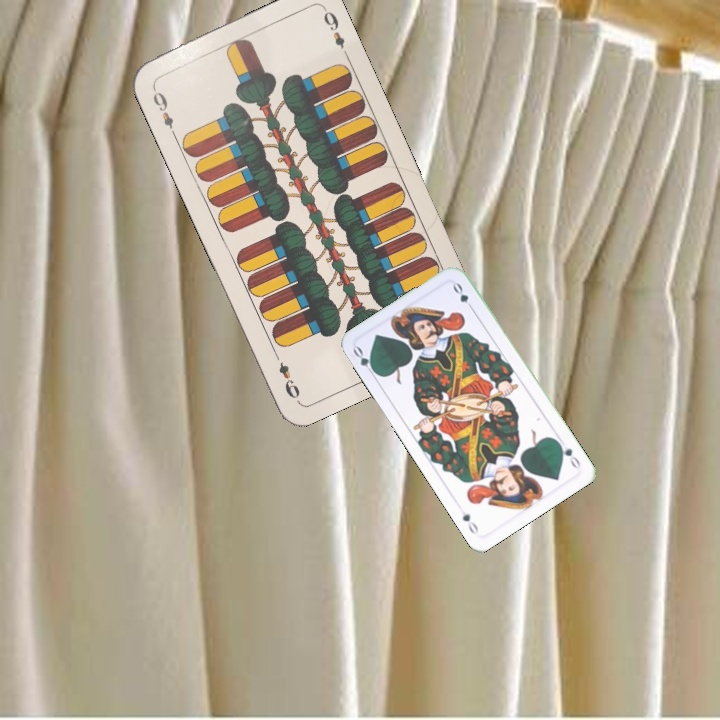E9: (148, 83, 179, 139)
GO: (349, 342, 380, 380), (553, 437, 583, 472)
